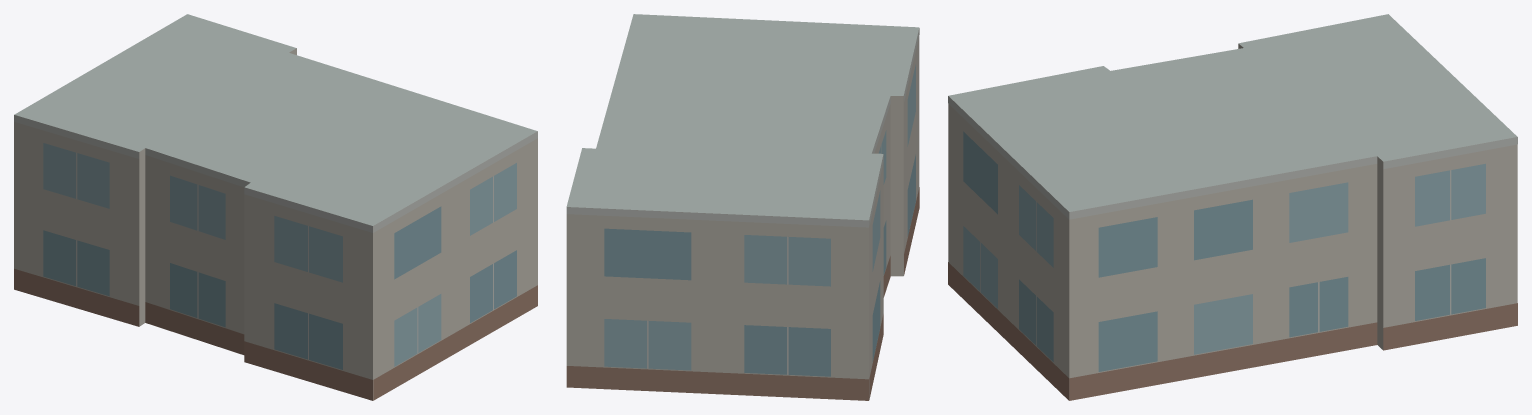
The model's file is survey-upis-32656752.glb.
The picture shows the model from 3 angles, left to right: view 1: azimuth 30°, elevation 25°; view 2: azimuth 150°, elevation 25°; view 3: azimuth 270°, elevation 25°; orthographic projection. The views are drawn at different scales.
Visible parts, largest first — view 1: survey-upis-32656752.tmp; view 2: survey-upis-32656752.tmp; view 3: survey-upis-32656752.tmp.
Part boxes in pixels (x1,y1,x2,y2): survey-upis-32656752.tmp: (14,14,537,400); survey-upis-32656752.tmp: (566,14,919,400); survey-upis-32656752.tmp: (948,14,1517,400).
Bounding box in the file's own units: 13.74 × 6.1 × 16.69.
